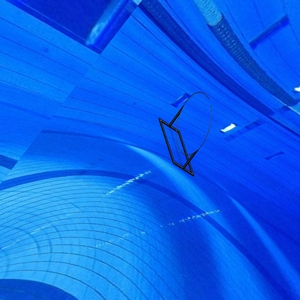circle: (153, 90, 217, 179)
